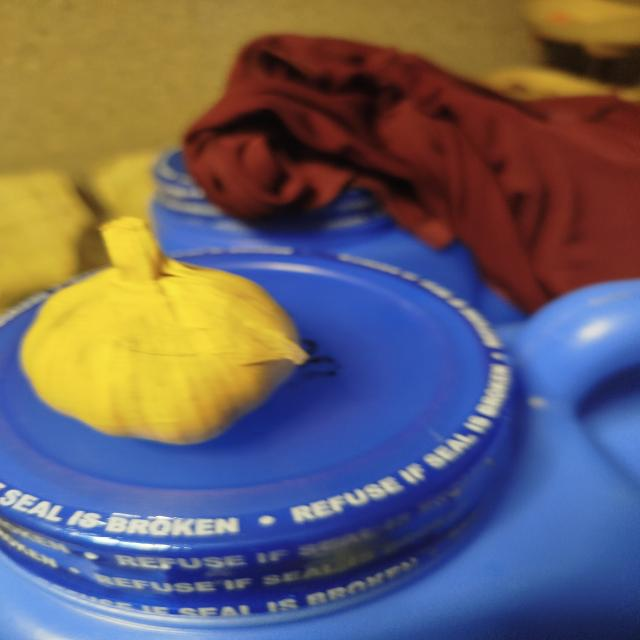garlic: (19, 215, 311, 445)
